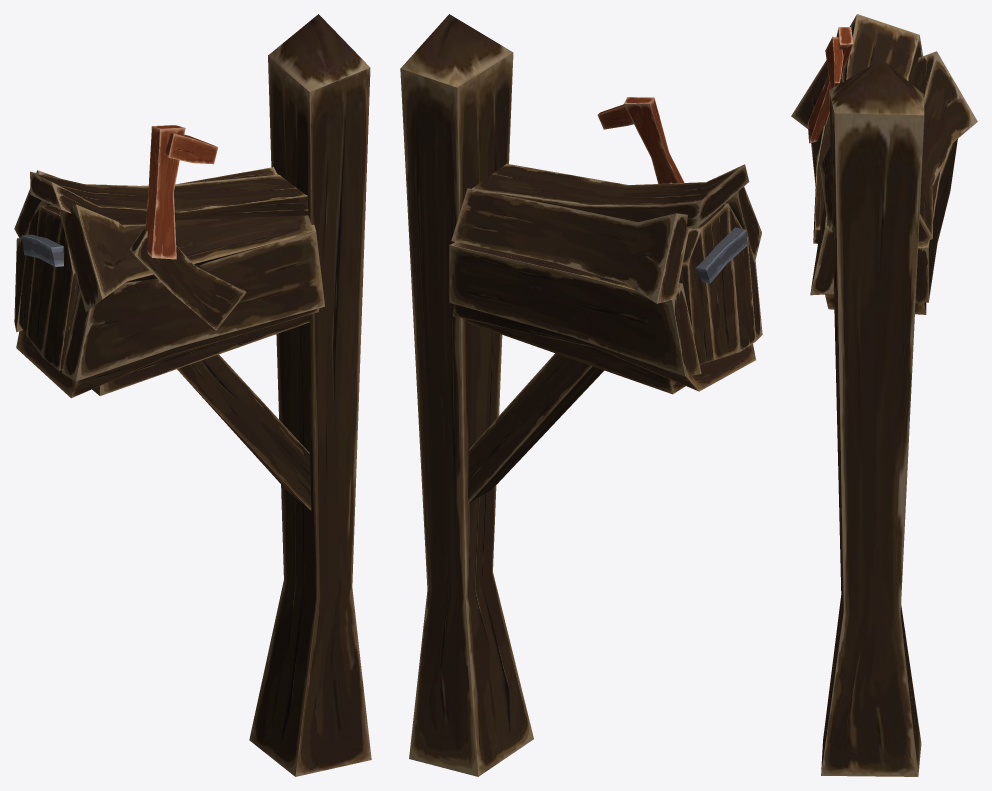
The model's file is SM_PROP_mailbox.glb.
The picture shows the model from 3 angles, left to right: view 1: azimuth 30°, elevation 25°; view 2: azimuth 150°, elevation 25°; view 3: azimuth 270°, elevation 25°; orthographic projection. The views are drawn at different scales.
Visible parts, largest first — view 1: SM_PROP_mailbox_EXPORT; view 2: SM_PROP_mailbox_EXPORT; view 3: SM_PROP_mailbox_EXPORT.
Boxes of the visible parts, x1=… form: SM_PROP_mailbox_EXPORT: x1=14, y1=14, x2=371, y2=776; SM_PROP_mailbox_EXPORT: x1=400, y1=14, x2=762, y2=776; SM_PROP_mailbox_EXPORT: x1=791, y1=14, x2=977, y2=776.
Bounding box in the file's own units: 0.6707 × 1.51 × 0.3618.
Materials: 3 (3 with a texture image).
